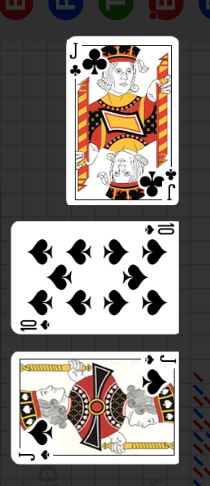10S: (19, 318, 53, 332), (142, 224, 176, 237)
JC: (67, 41, 83, 78)
JS: (130, 353, 177, 397), (10, 420, 56, 464)
